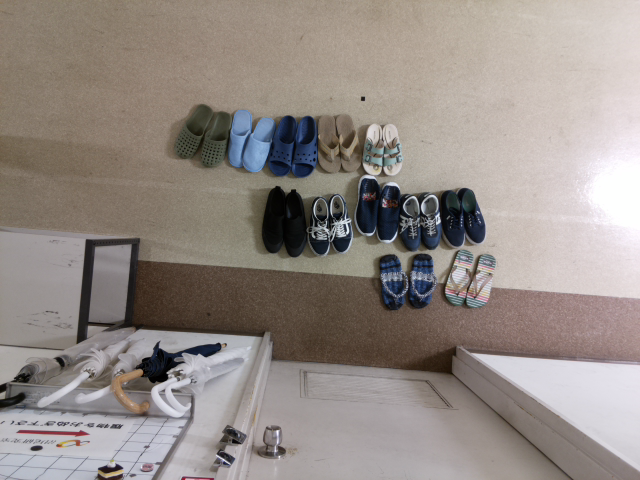Copy of Copy of Copy of Copy of Copy of Copy of Copy of Copy of Copy of shoes: (456, 187, 486, 245)
Copy of Copy of Copy of Copy of Copy of Copy of Copy of Copy of shoes: (440, 190, 468, 247)
Copy of Copy of Copy of Copy of Copy of Copy of Copy of shoes: (419, 192, 441, 250)
Copy of Copy of Copy of Copy of Copy of Copy of sandal: (410, 252, 437, 308)
Copy of Copy of Copy of Copy of Copy of Copy of shoes: (398, 193, 420, 251)
Copy of Copy of Copy of Copy of Copy of sandal: (378, 253, 409, 311), (465, 253, 496, 308)
Copy of Copy of Copy of Copy of Copy of shoes: (378, 181, 399, 244)
Copy of Copy of Copy of Copy of Copy of slipper: (229, 108, 253, 169)
Copy of Copy of Copy of Copy of sandal: (443, 248, 474, 305)
Copy of Copy of Copy of Copy of shoes: (354, 174, 377, 238)
Copy of Copy of Copy of Copy of slipper: (241, 115, 275, 172)
Copy of Copy of Copy of sandal: (336, 112, 361, 173)
Copy of Copy of Copy of shoes: (329, 191, 351, 254)
Copy of Copy of Copy of slipper: (289, 114, 318, 178)
Copy of Copy of sandal: (318, 112, 340, 172)
Copy of Copy of shoes: (308, 195, 330, 257)
Copy of Copy of slipper: (267, 113, 298, 177)
Copy of sandal: (382, 122, 403, 175)
Copy of shoes: (284, 188, 307, 258)
Copy of slipper: (197, 111, 232, 167)
sandal: (363, 122, 386, 176)
shoes: (260, 184, 284, 254)
slipper: (175, 103, 213, 158)
